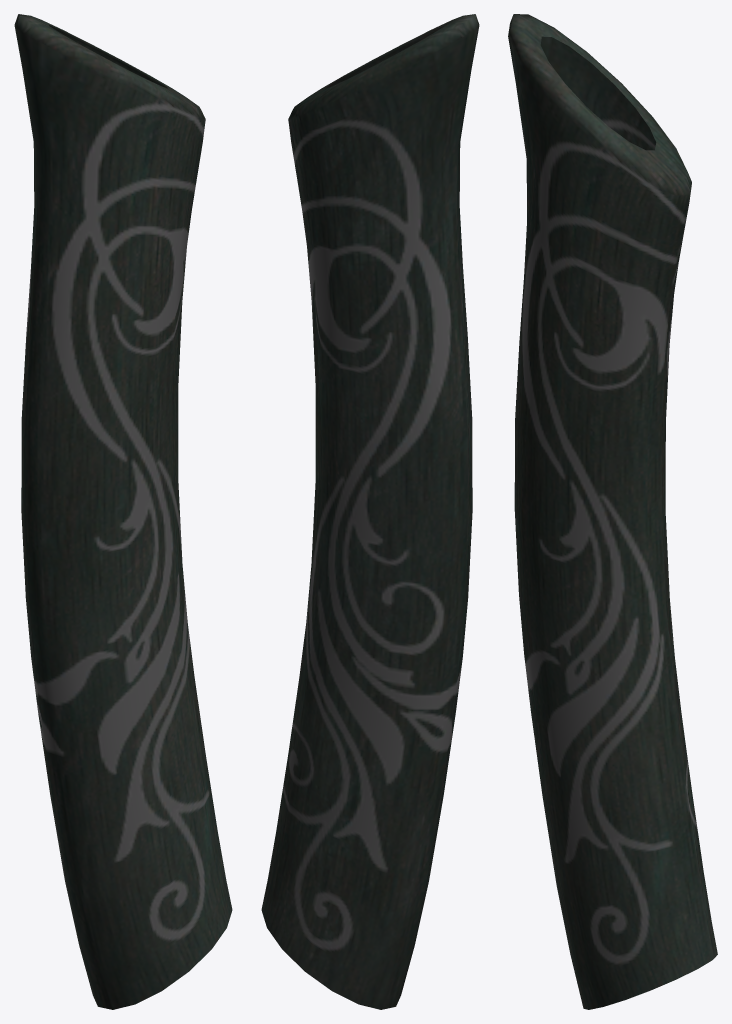
The model's file is wm_rivendell_sword_a01_silver_handle.fbx.
The picture shows the model from 3 angles, left to right: view 1: azimuth 30°, elevation 25°; view 2: azimuth 150°, elevation 25°; view 3: azimuth 330°, elevation 25°; orthographic projection. The views are drawn at different scales.
Visible parts, largest first — view 1: wm_rivendell_sword_a01_silver_handle; view 2: wm_rivendell_sword_a01_silver_handle; view 3: wm_rivendell_sword_a01_silver_handle.
Part boxes in pixels (x1,y1,x2,y2): wm_rivendell_sword_a01_silver_handle: (14,14,232,1009); wm_rivendell_sword_a01_silver_handle: (261,14,479,1009); wm_rivendell_sword_a01_silver_handle: (508,14,717,1009).
Size of the model in its own units: 0.0602 by 0.0265 by 0.2751.
Materials: 1 (1 with a texture image).
